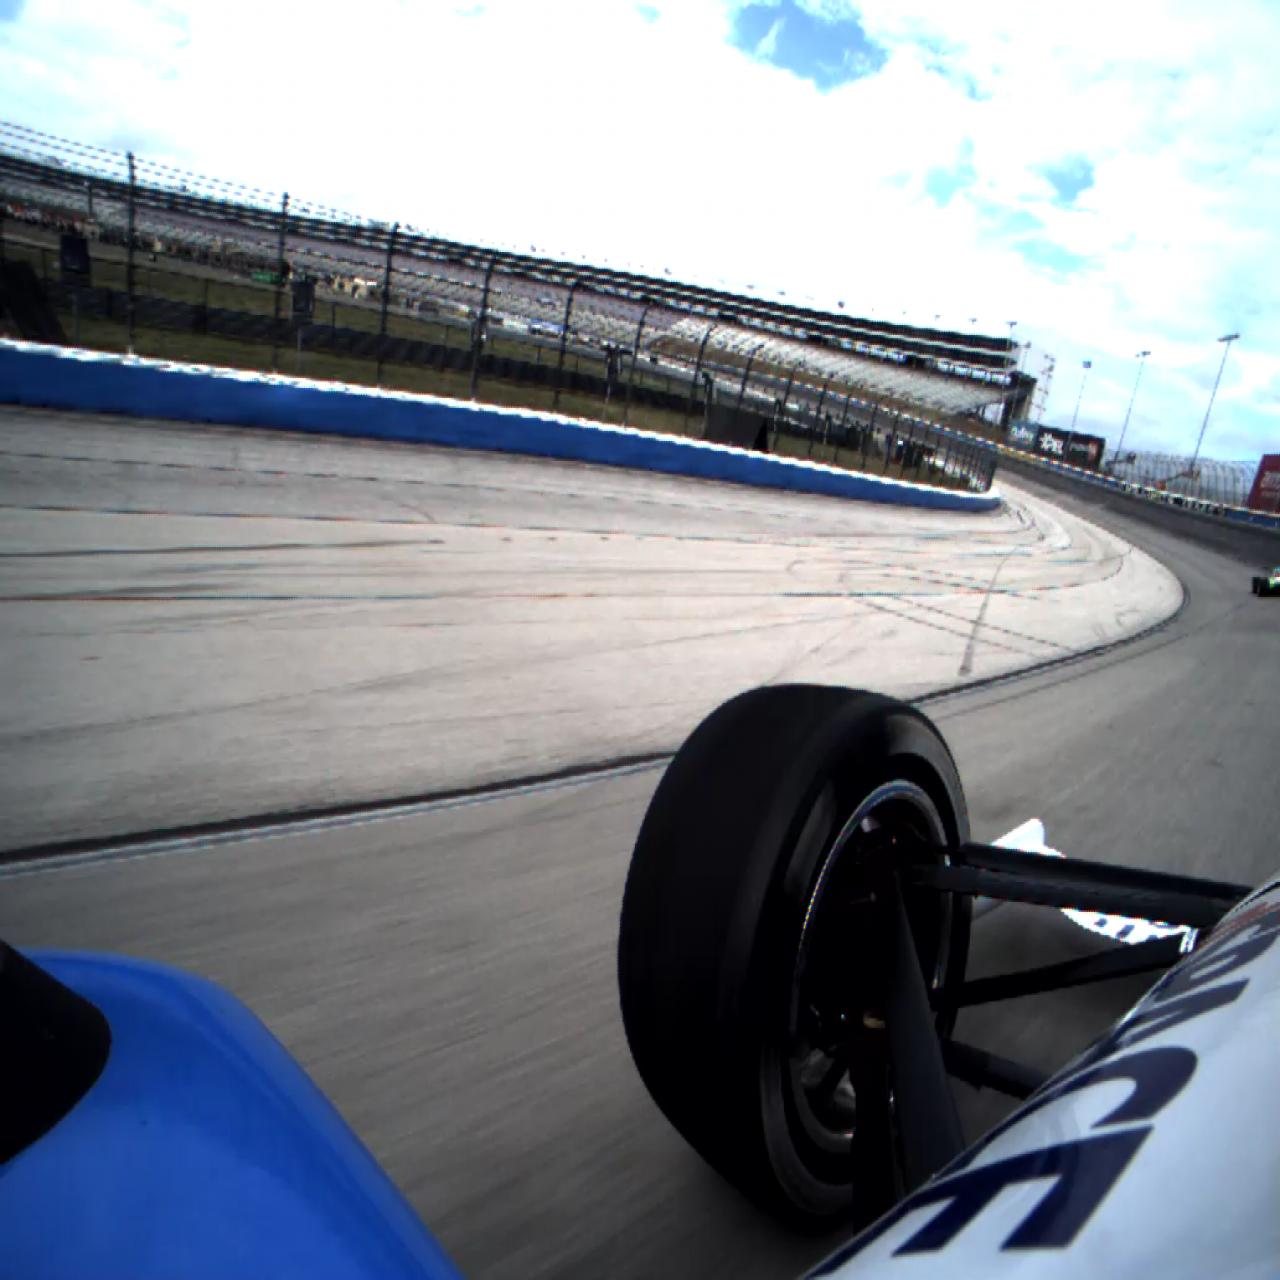AV: (1251, 566, 1280, 598)
Wheel: (619, 682, 974, 1237), (1258, 580, 1268, 598), (1252, 576, 1260, 594)
